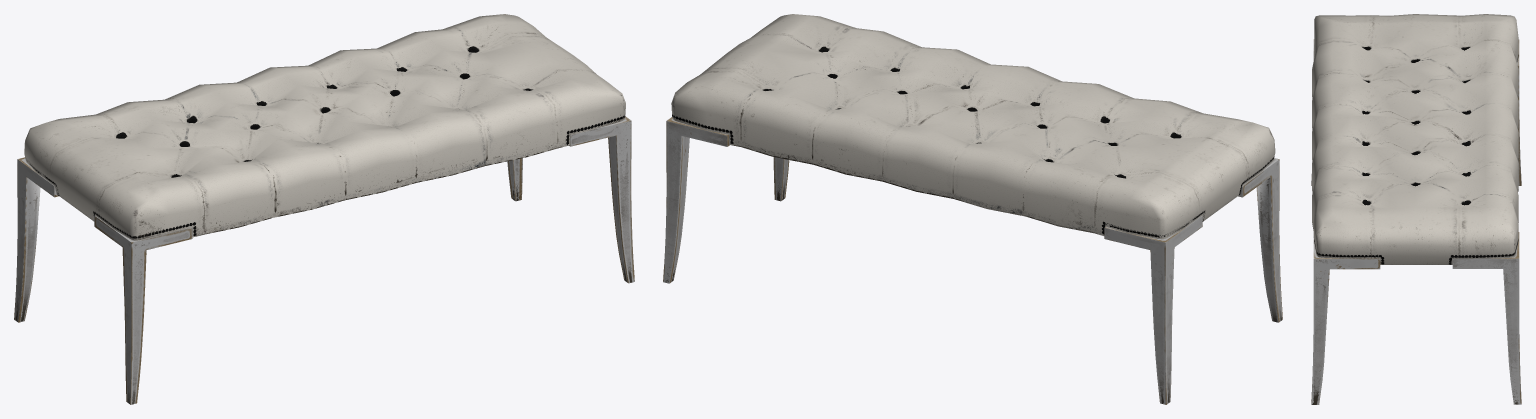
The model's file is seat.FBX.
3 renders of one model, left to right at view 1: azimuth 30°, elevation 25°; view 2: azimuth 150°, elevation 25°; view 3: azimuth 270°, elevation 25°, orthographic. The views are drawn at different scales.
Visible parts, largest first — view 1: Seat; view 2: Seat; view 3: Seat.
Boxes of the visible parts, box(x1,y1,x2,y2) form: Seat: box(14, 14, 634, 404); Seat: box(663, 14, 1282, 404); Seat: box(1311, 14, 1521, 404).
Size of the model in its own units: 134 by 50.31 by 53.55.
Materials: 1 (1 with a texture image).
